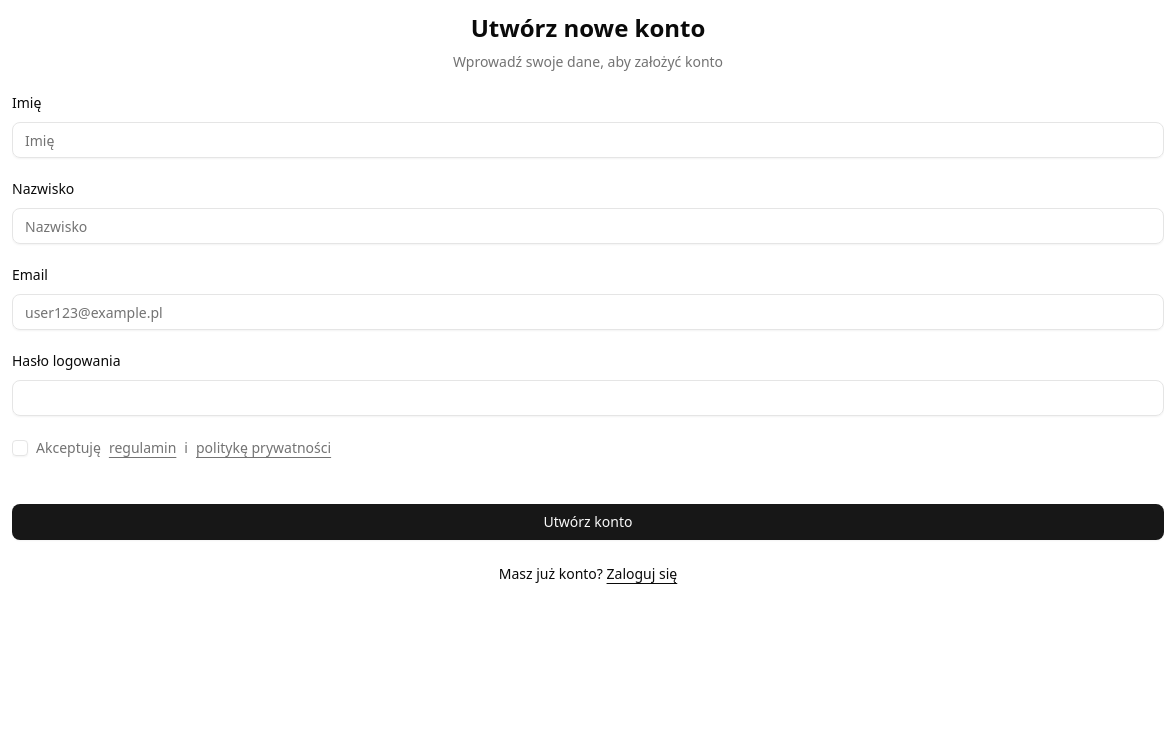
RegisterForm › wyświetla ogólny błąd przy nieudanej rejestracji i nie czyści pól oprócz hasła
The image size is (1176, 732).
In the field labelled "Imię": [588, 140] box [12,122,1164,158], type "Jan"
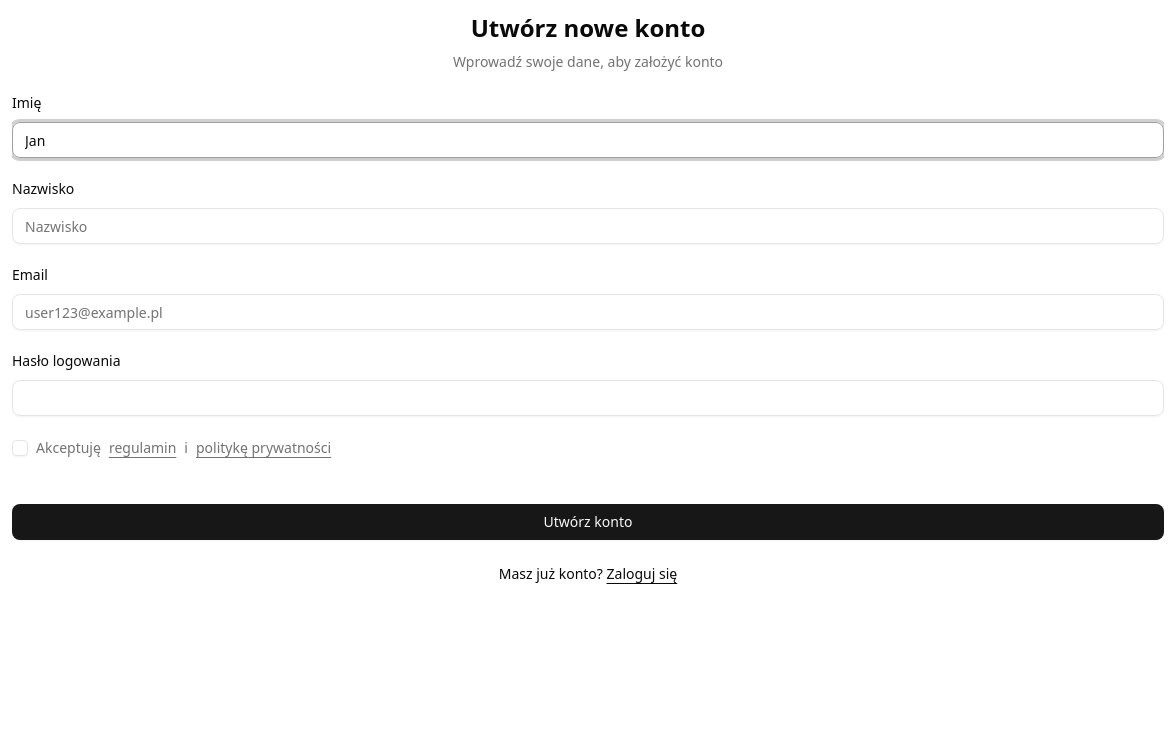
In the field labelled "Nazwisko": [588, 226] box [12,208,1164,244], type "Kowalski"
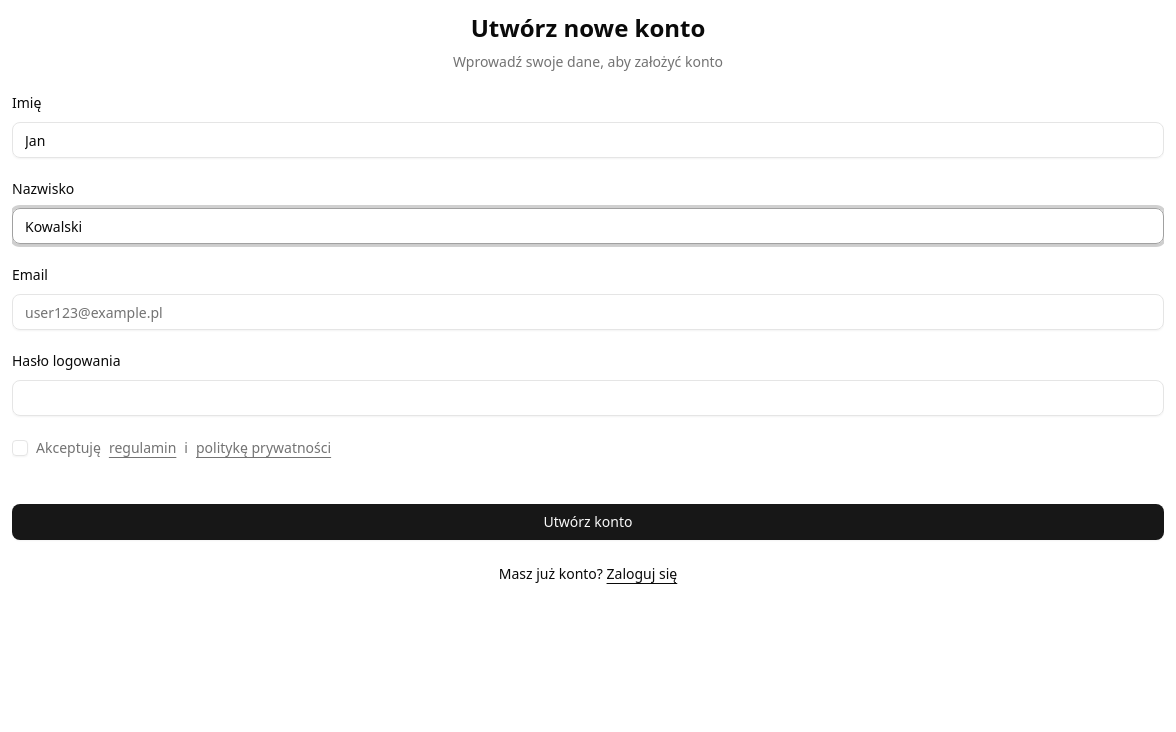
In the field labelled "Email": [588, 312] box [12,294,1164,330], type "jan.kowalski@example.pl"
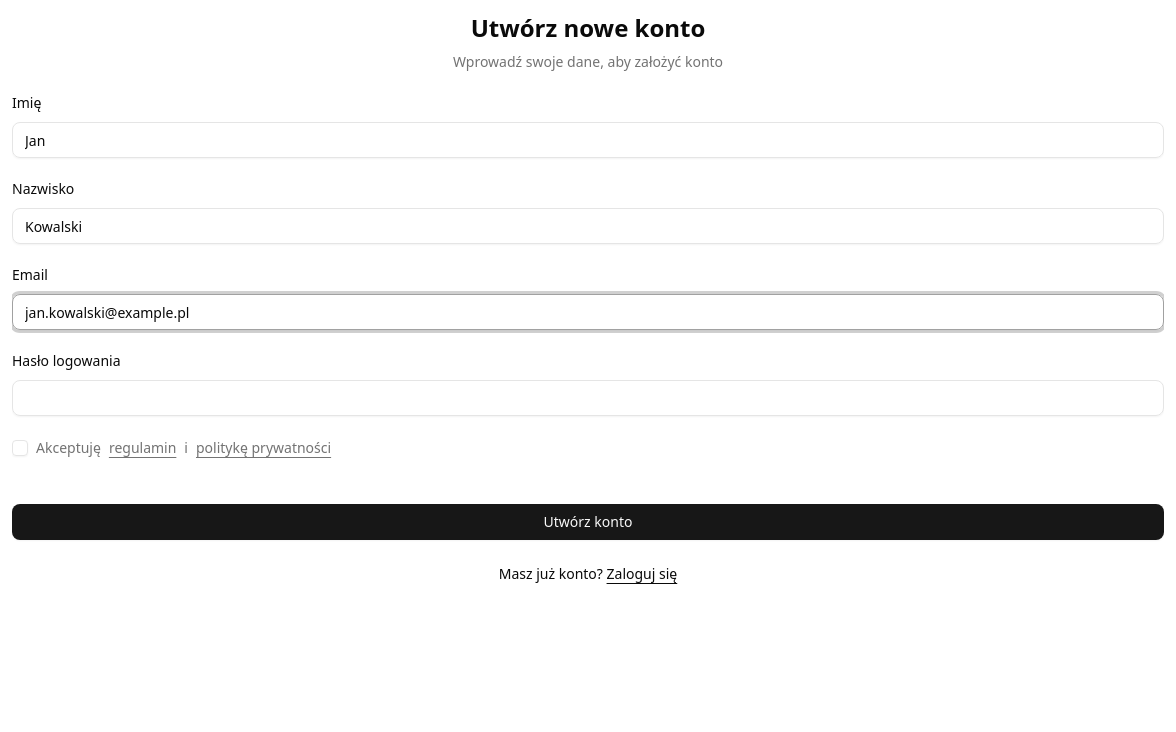
In the password field labelled "Hasło logowania": [588, 398] box [12,380,1164,416], type "Password123!"
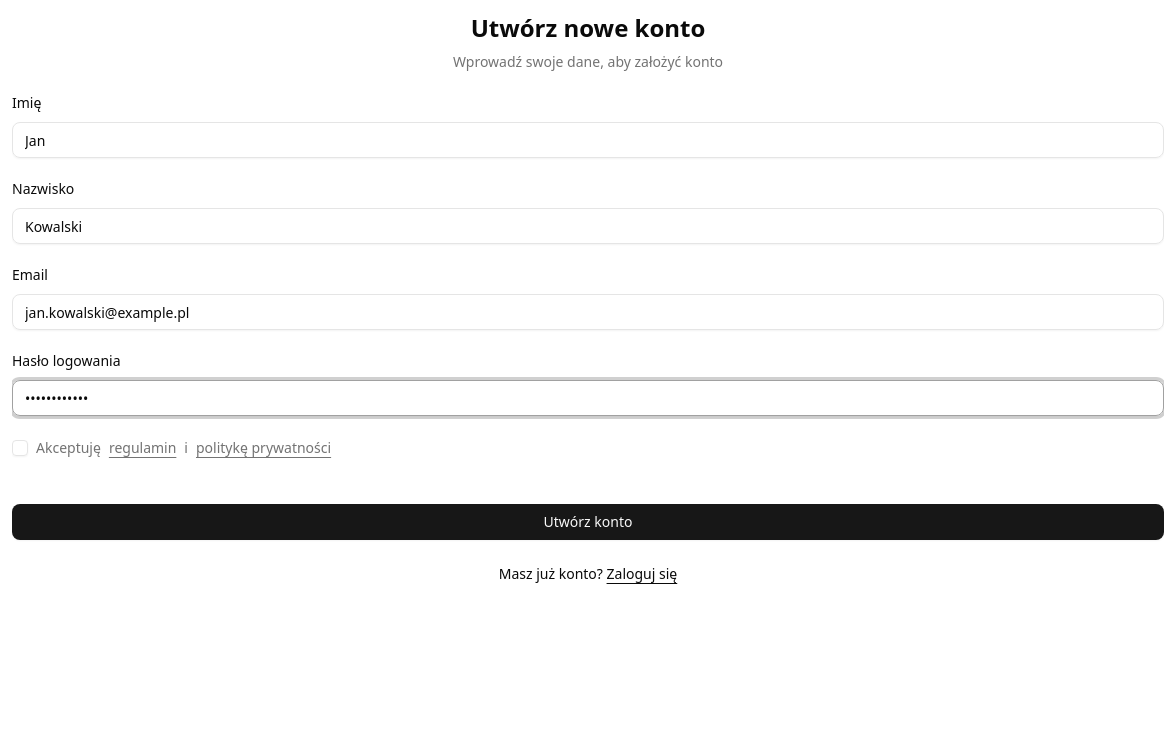
Click the checkbox named "Akceptuję regulamin i politykę prywatności": [20, 448] box [12,440,28,456]
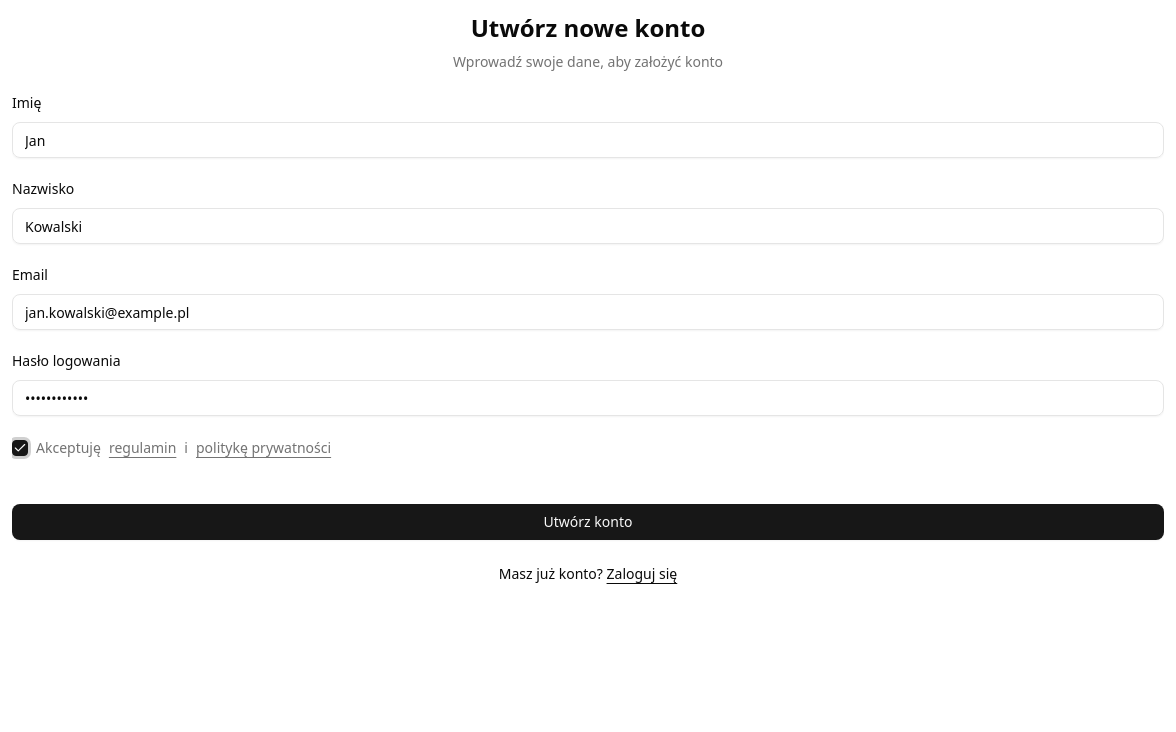
Click the button "Utwórz konto": [588, 522] box [12,504,1164,540]
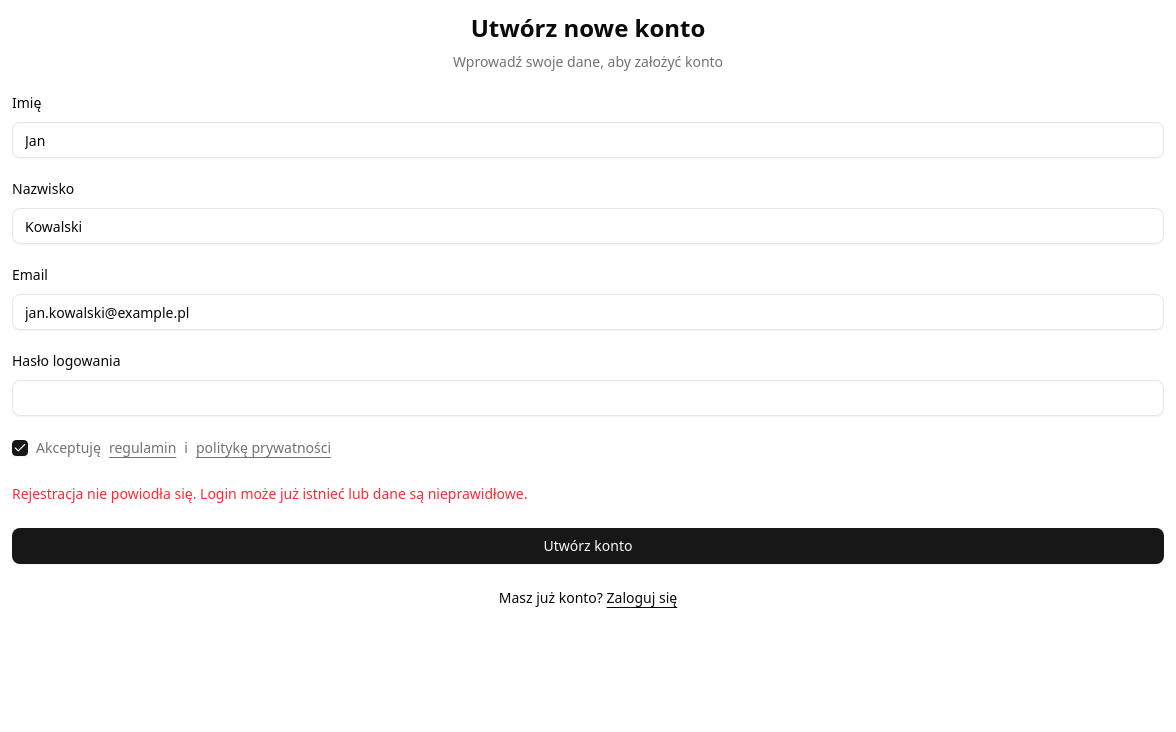
Expected: the text "Rejestracja nie powiodła się. Login może już istnieć lub dane są nieprawidłowe." is shown, [12,484,528,503]
Expected: the password field labelled "Hasło logowania" is empty, [12,380,1164,416]
